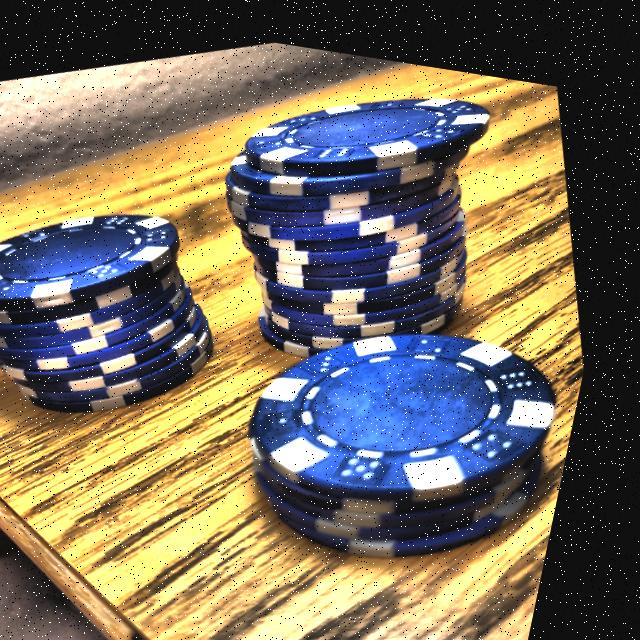Chip: (179, 242, 606, 631), (162, 27, 567, 397), (0, 138, 272, 478)
